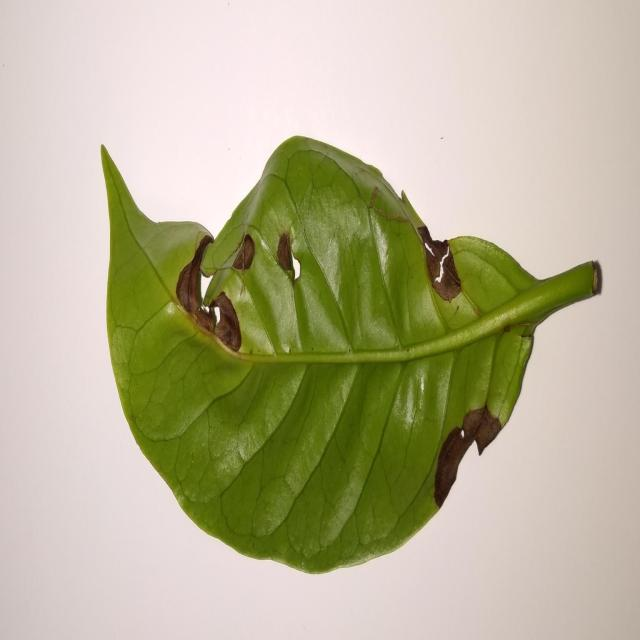Enfermedad-Antracnosis: (101, 137, 603, 577)
